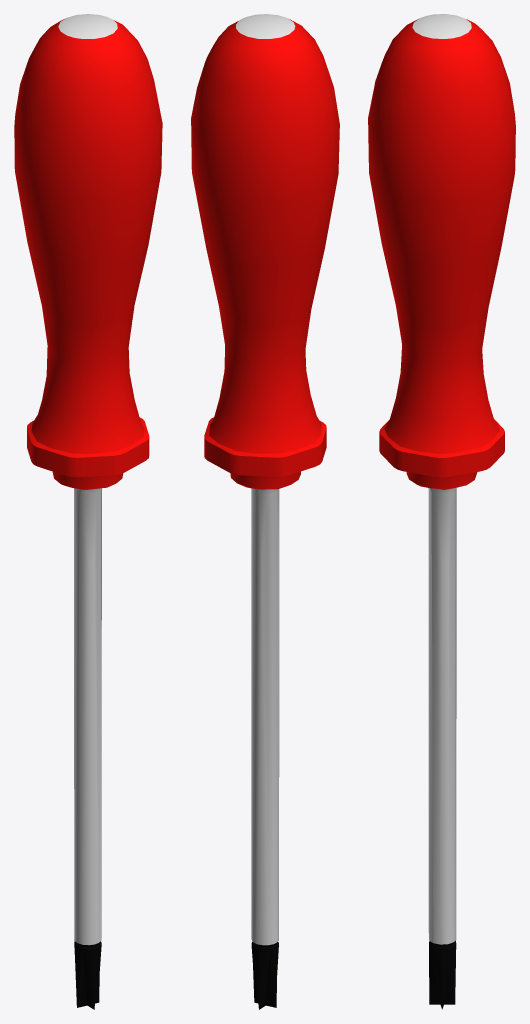
File: Obeng Plus.fbx
3 renders of one model, left to right at view 1: azimuth 30°, elevation 25°; view 2: azimuth 150°, elevation 25°; view 3: azimuth 270°, elevation 25°, orthographic.
Parts seen in each view (by area): view 1: Obeng Plus; view 2: Obeng Plus; view 3: Obeng Plus.
Boxes of the visible parts, x1,y1,x2,y2 form: Obeng Plus: [14, 14, 162, 1009]; Obeng Plus: [191, 14, 339, 1009]; Obeng Plus: [368, 14, 515, 1009].
Size of the model in its own units: 2.9 by 21 by 2.87.
